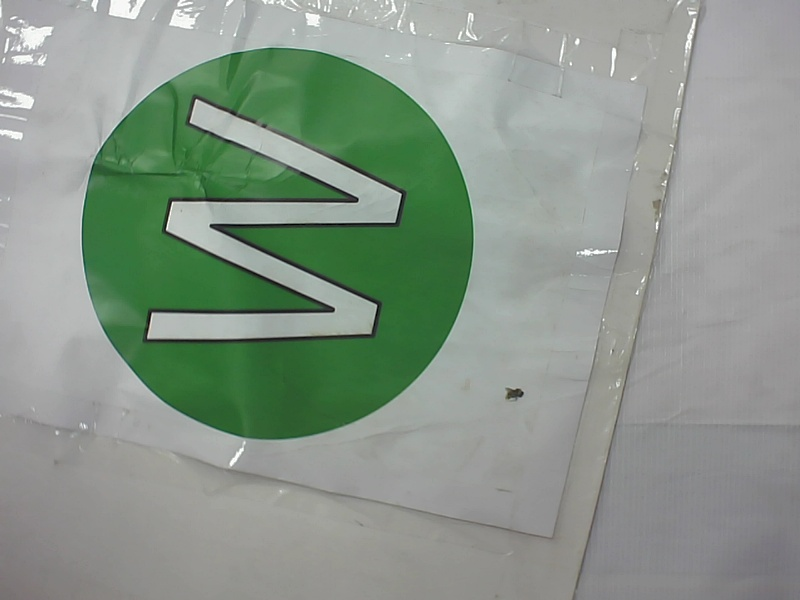areaB: (83, 34, 492, 444)
